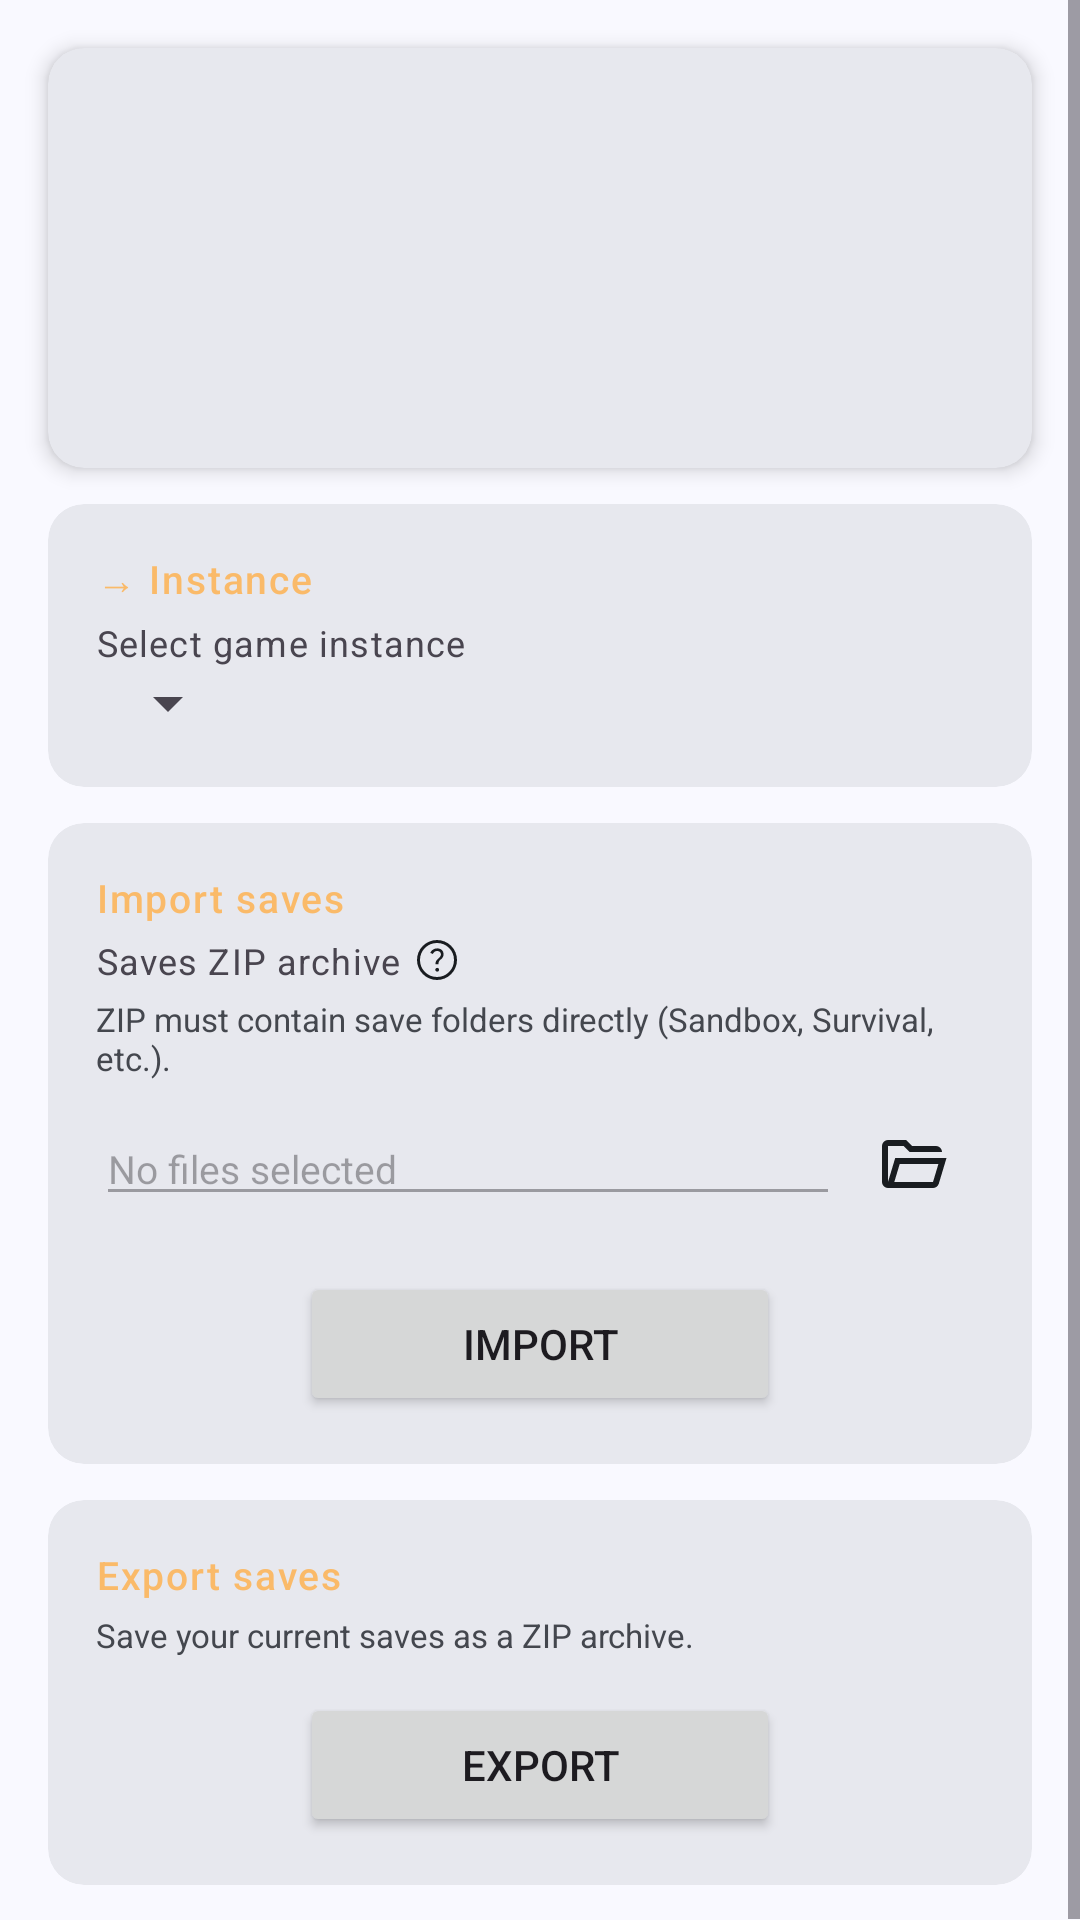

Screen size 1080x1920. Icon name, then its center in pixels as (x,y):
folder open: (914,1164)
help: (437,960)
